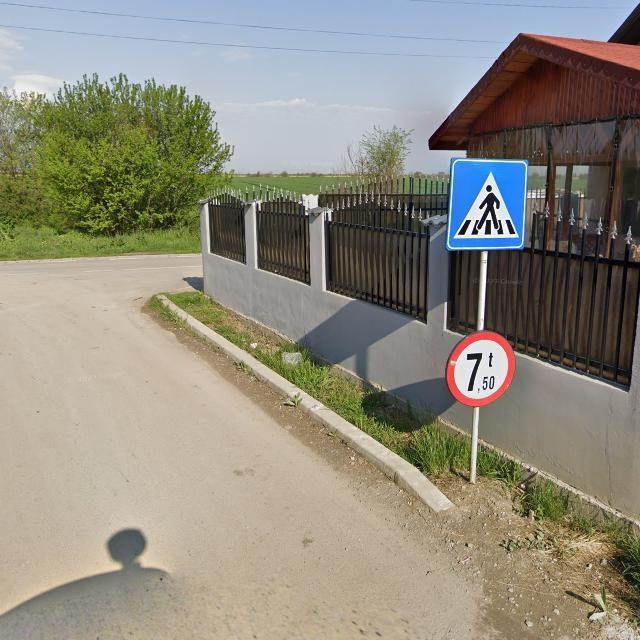info_crosswalk: (446, 157, 528, 250)
